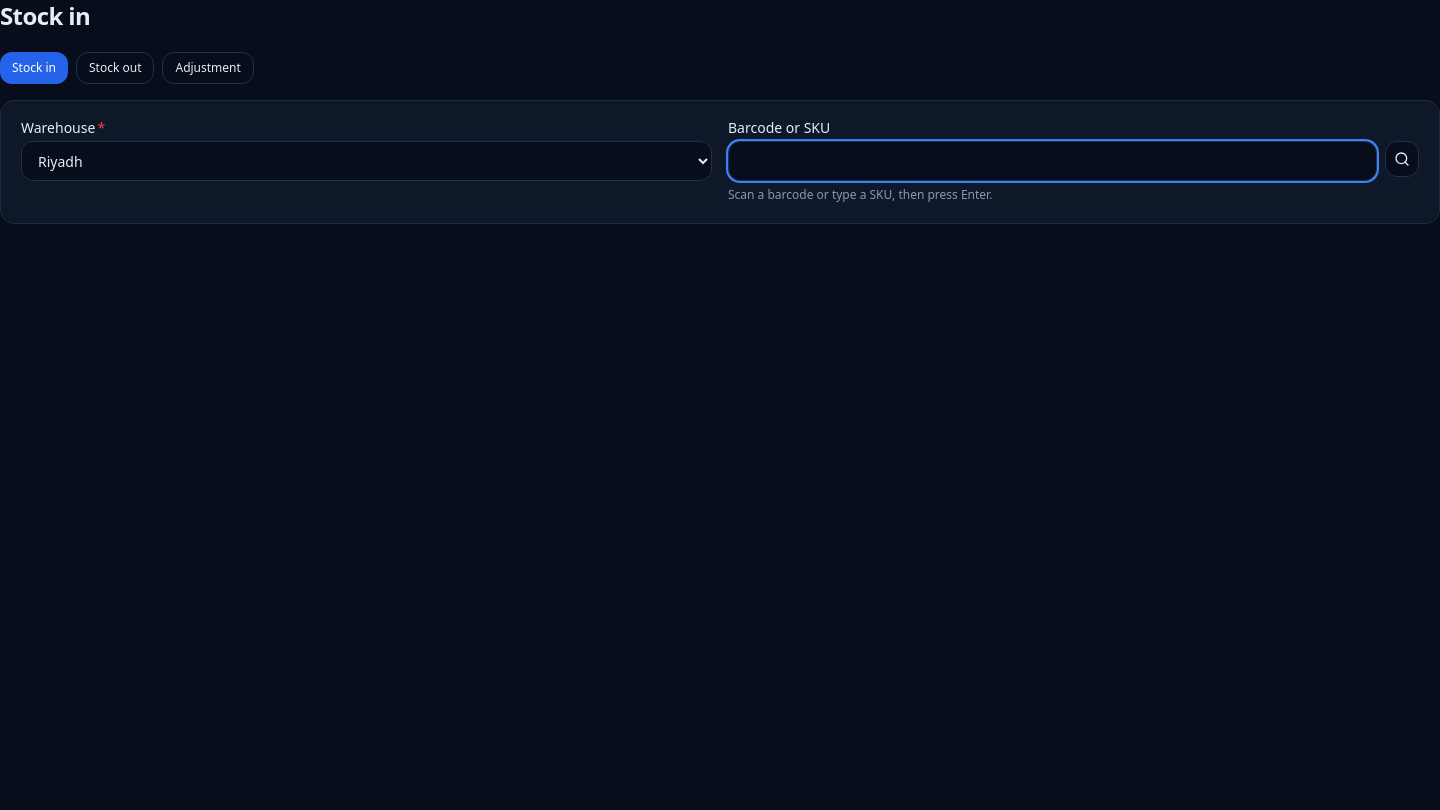
Test case: stock movement form (server-first) › keeps a server rejection visible with its reason and does not report success
This screenshot has width=1440, height=810.
Type "2000000100104" into the field labelled "Barcode or SKU" at (1053, 161), box [728,141,1377,181]
Then press Enter
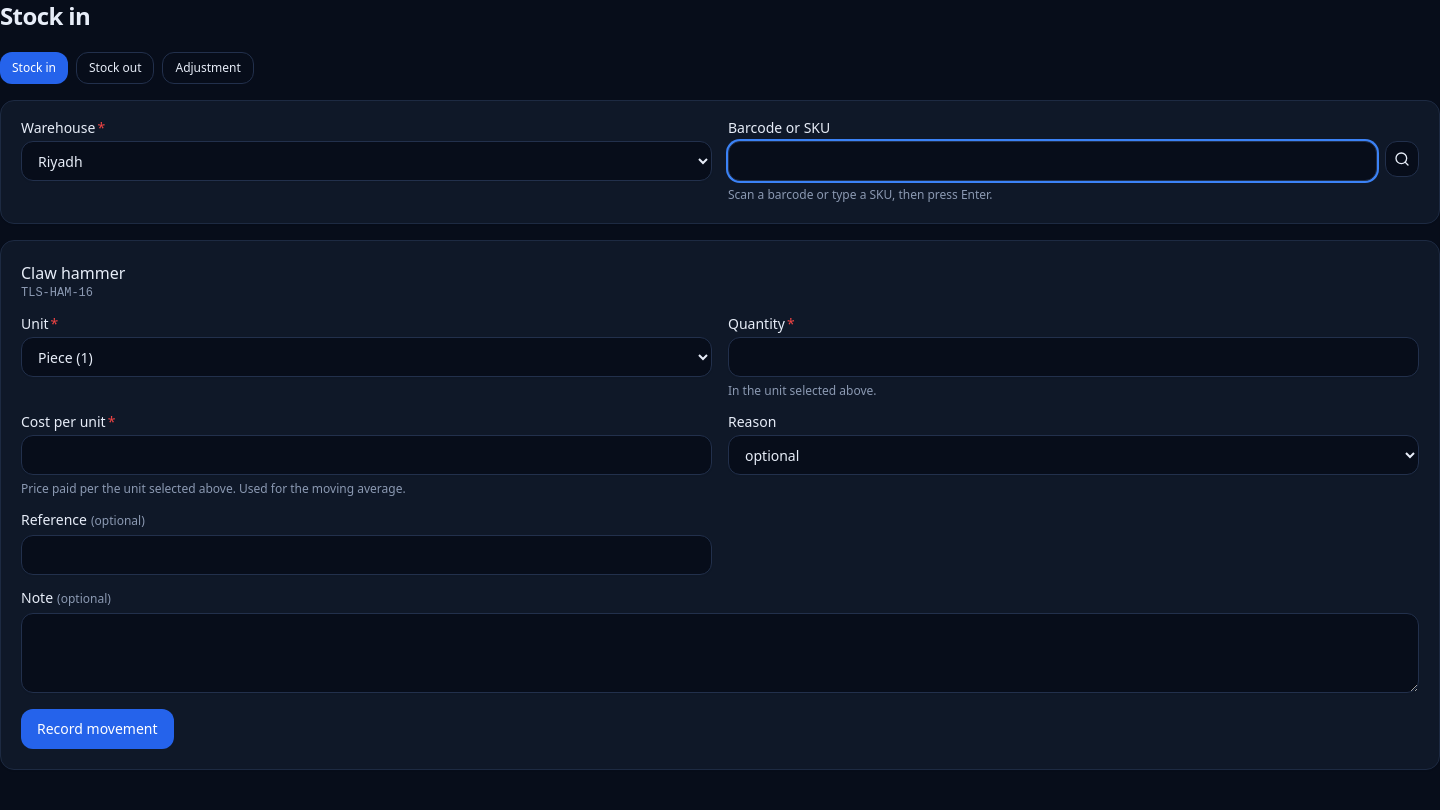
Now the text "Claw hammer" is shown, box [21,262,125,284]
Type "1" into the field labelled "Quantity*" at (1074, 357), box [728,337,1419,377]
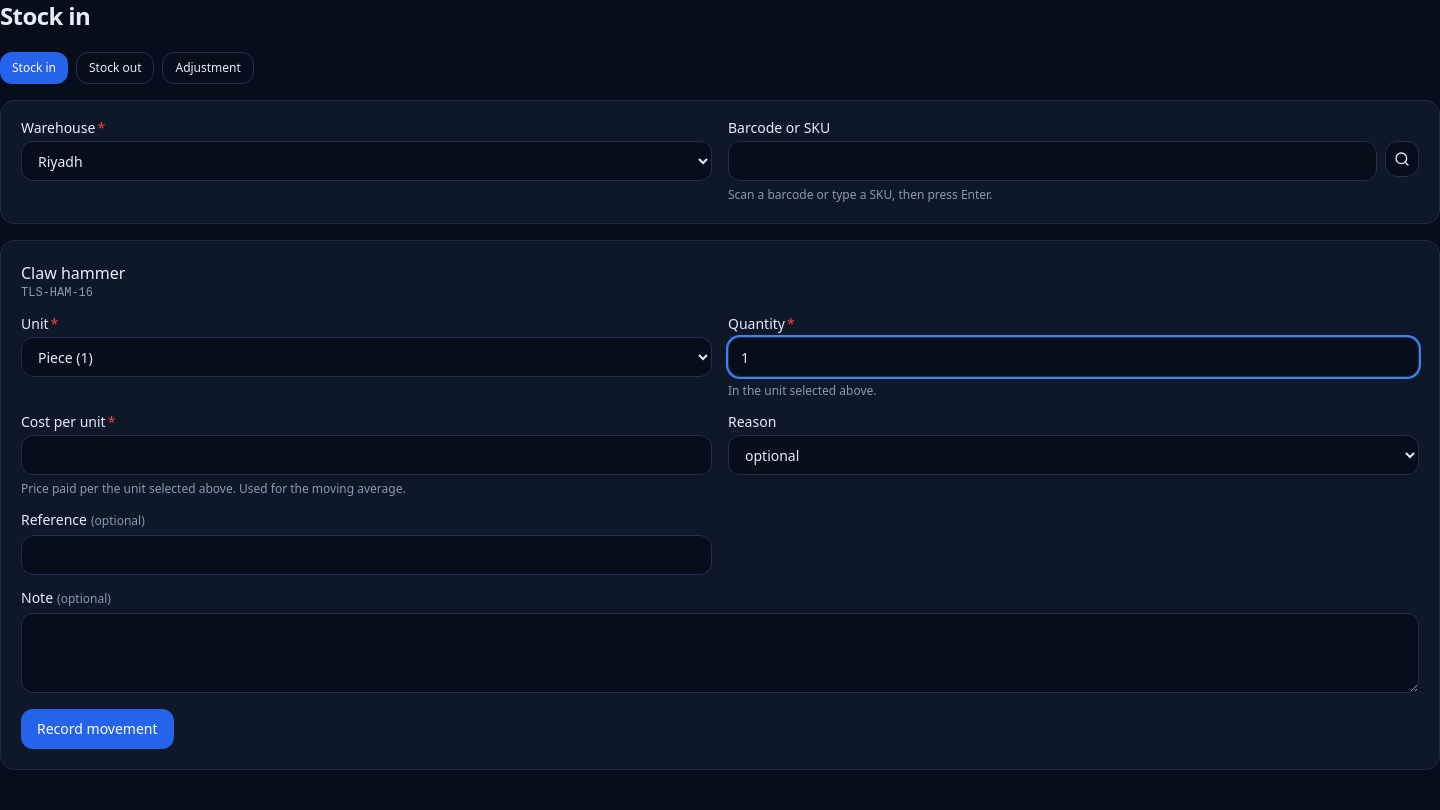
Type "3" into the field labelled "Cost per unit*" at (366, 455), box [21,435,712,475]
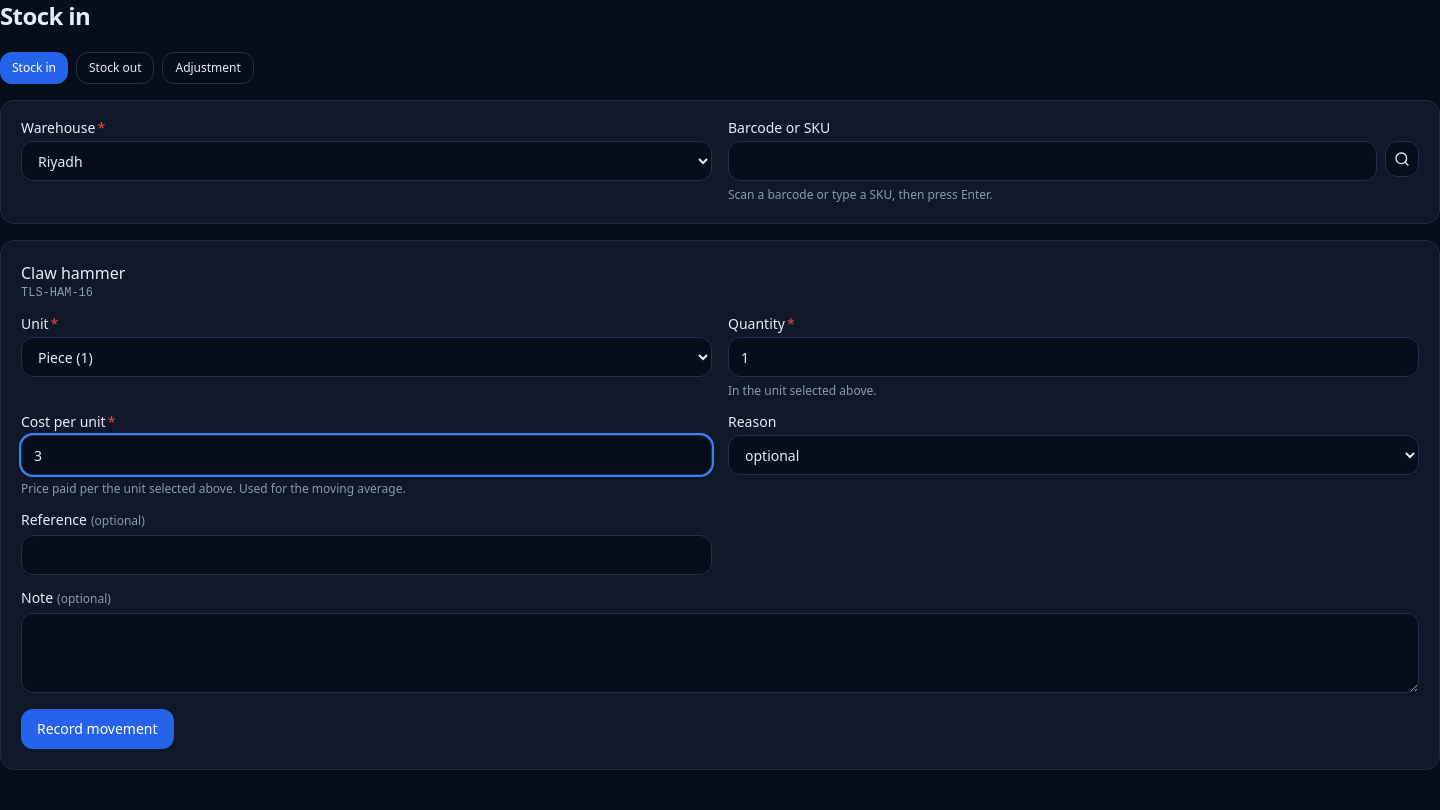
Click the button "Record movement" at (97, 729), box [21,709,174,749]
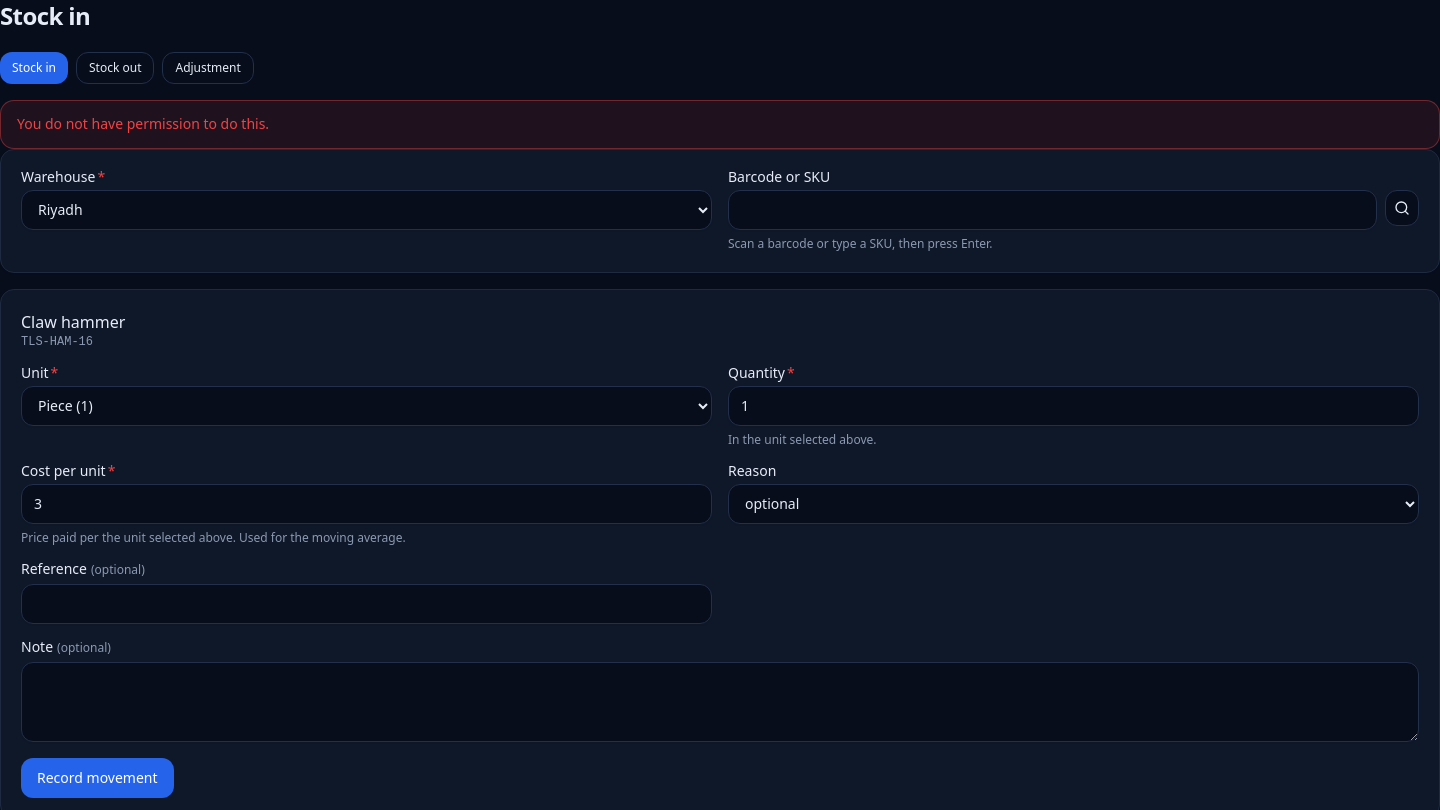
Now the text "You do not have permission to do this." is shown, box [17,113,269,136]
